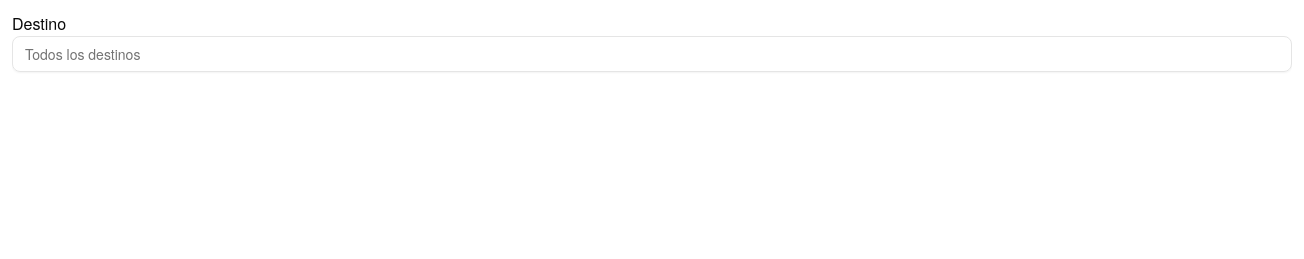
AirportCombobox del panel › el clic elige una opción y cierra la lista
This screenshot has width=1304, height=259.
Click the dropdown at (652, 54), box [12,36,1292,72]
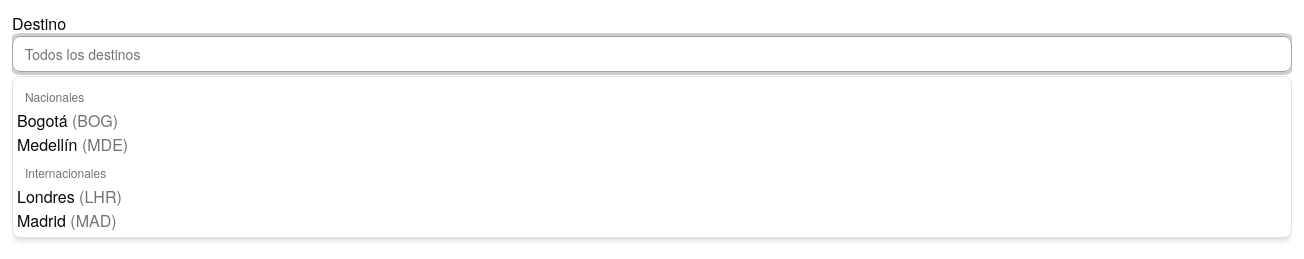
Click the option "Londres (LHR)" at (69, 196), box [17,185,122,208]
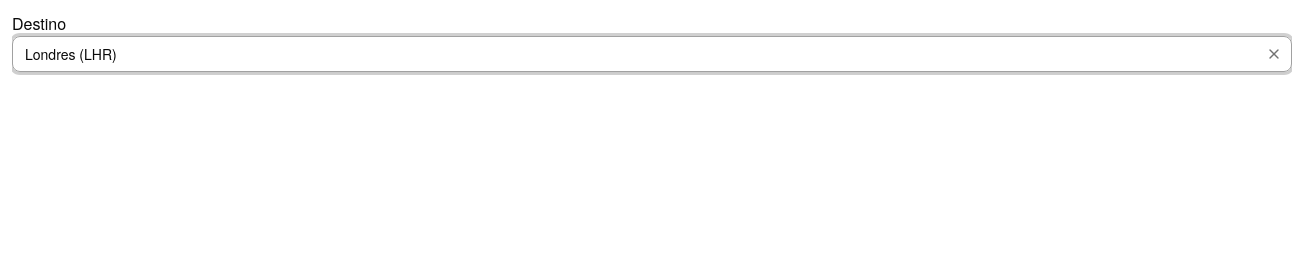
Expected: the list is gone
